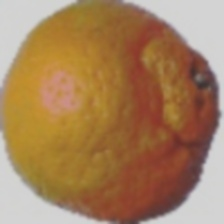tangerine: (43, 23, 183, 224)
